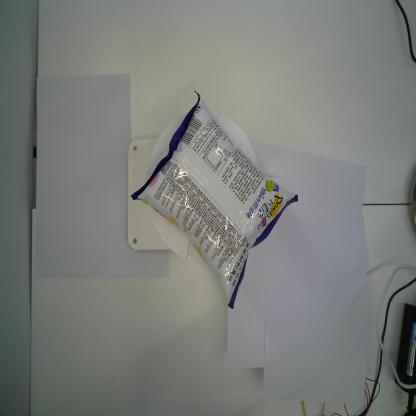Puffed Food: (129, 90, 300, 309)
